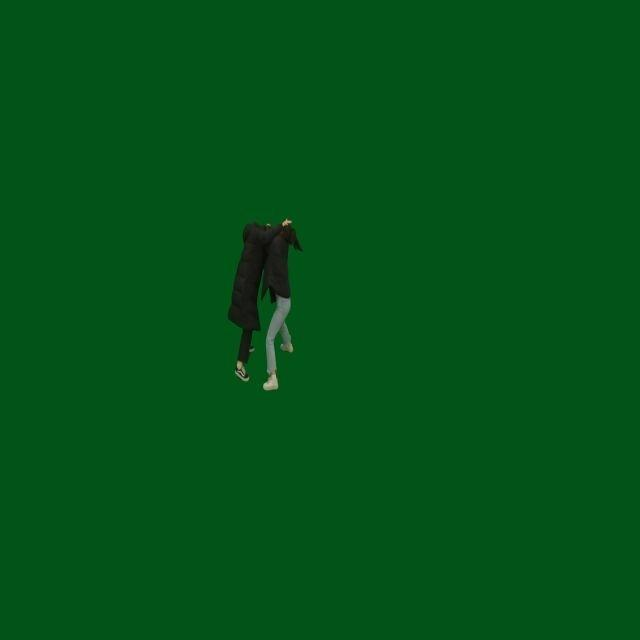fight: (227, 216, 305, 392)
